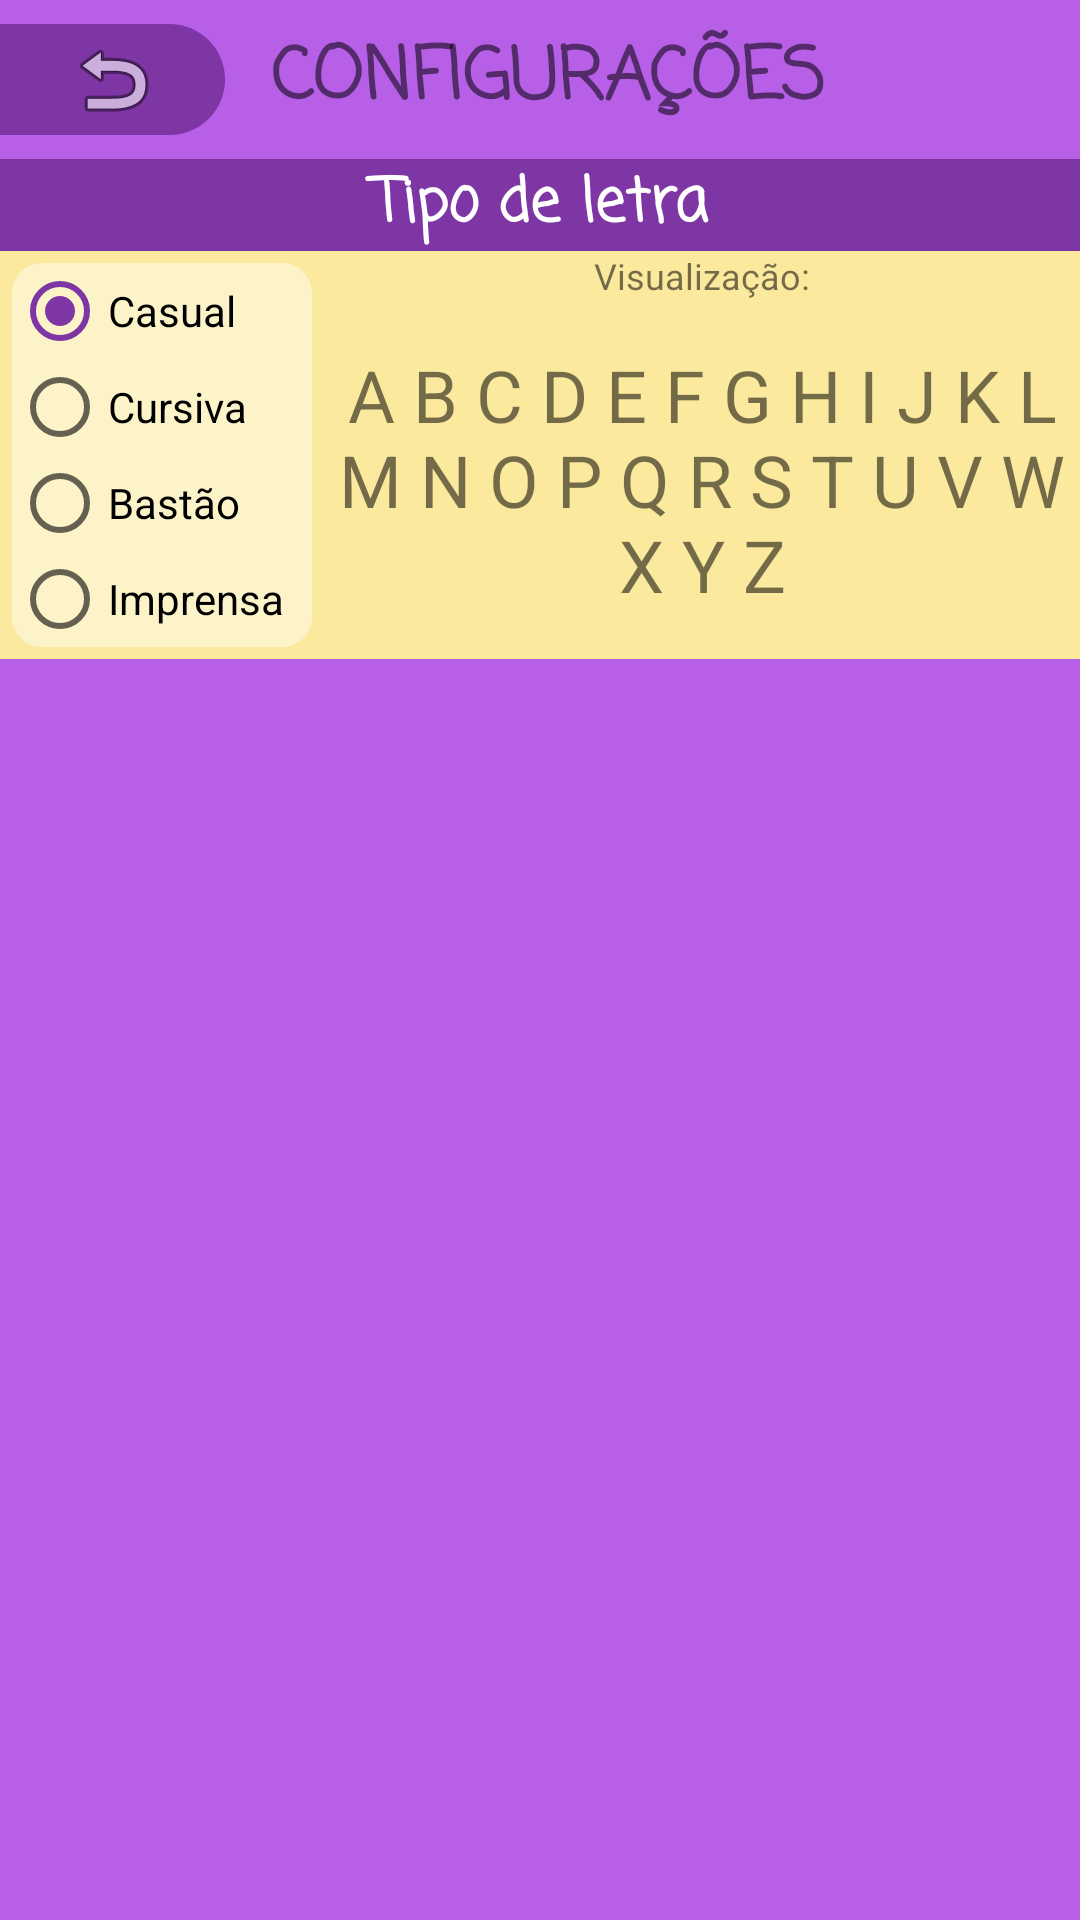

Icons on this 1080w x 1920h Android screen, each with the point to tap as [x,y]:
revert: [112,79]
